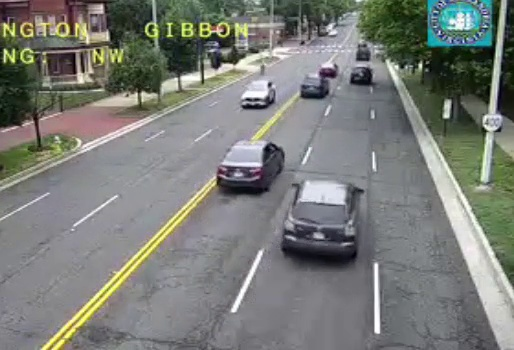car: (282, 180, 358, 256), (215, 141, 285, 186), (300, 77, 326, 97), (349, 66, 372, 85), (319, 63, 337, 78)
